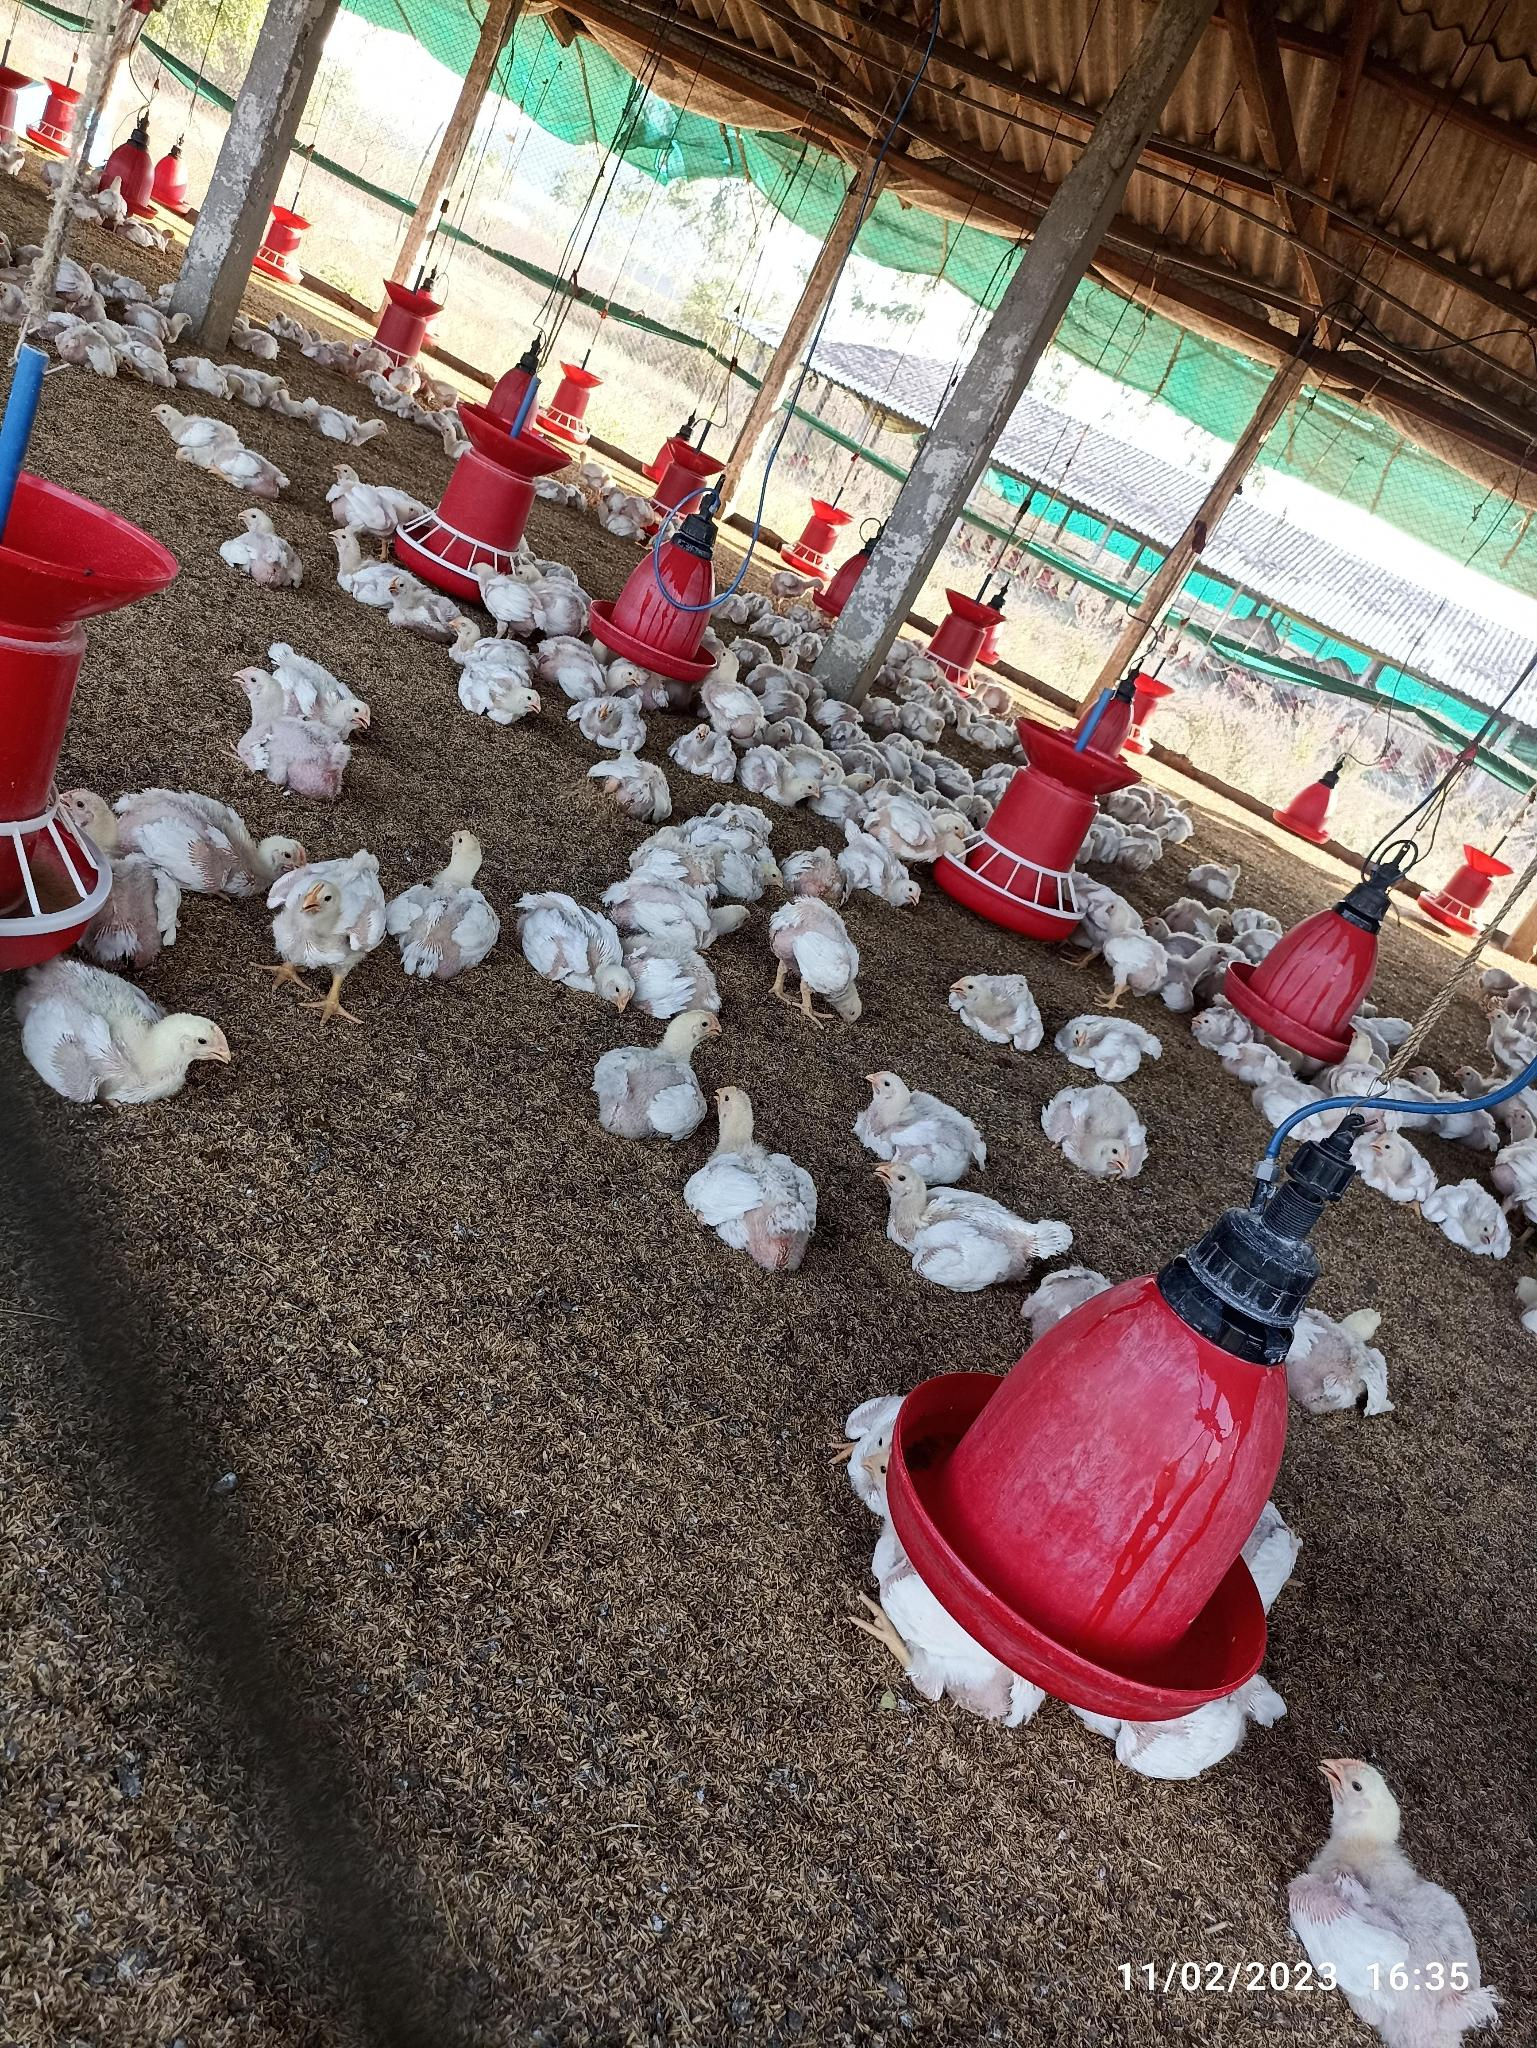Pollos: (1298, 1745, 1505, 2037), (6, 959, 244, 1106), (869, 1159, 1070, 1286), (60, 781, 244, 909), (216, 647, 360, 791), (712, 1075, 812, 1272), (605, 1009, 731, 1131), (400, 825, 500, 963), (271, 847, 384, 968), (140, 395, 278, 489), (865, 1059, 990, 1162), (765, 905, 875, 1022), (525, 888, 634, 1001), (1292, 1309, 1405, 1415), (943, 960, 1061, 1059), (447, 613, 541, 713), (1040, 1094, 1153, 1175), (836, 825, 927, 920), (1430, 1172, 1511, 1272), (224, 507, 307, 591), (329, 529, 417, 607), (706, 637, 768, 741), (1070, 1012, 1171, 1075), (578, 681, 655, 754), (320, 466, 417, 523)
